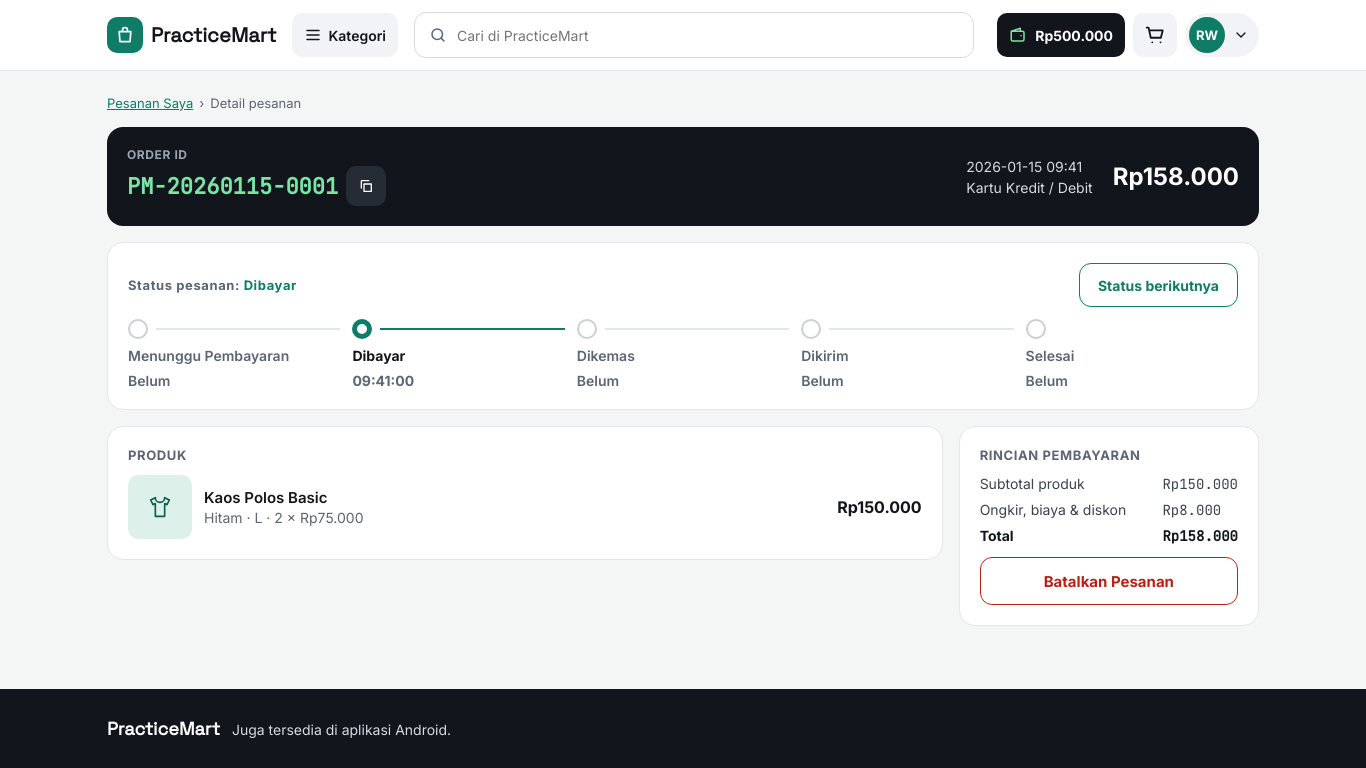
Test case: Detail pesanan (W-ORD-02) › salin Order ID → toast
Click the button with test id "shop_btn_copy_order_id" at (366, 186), box [346, 166, 386, 206]
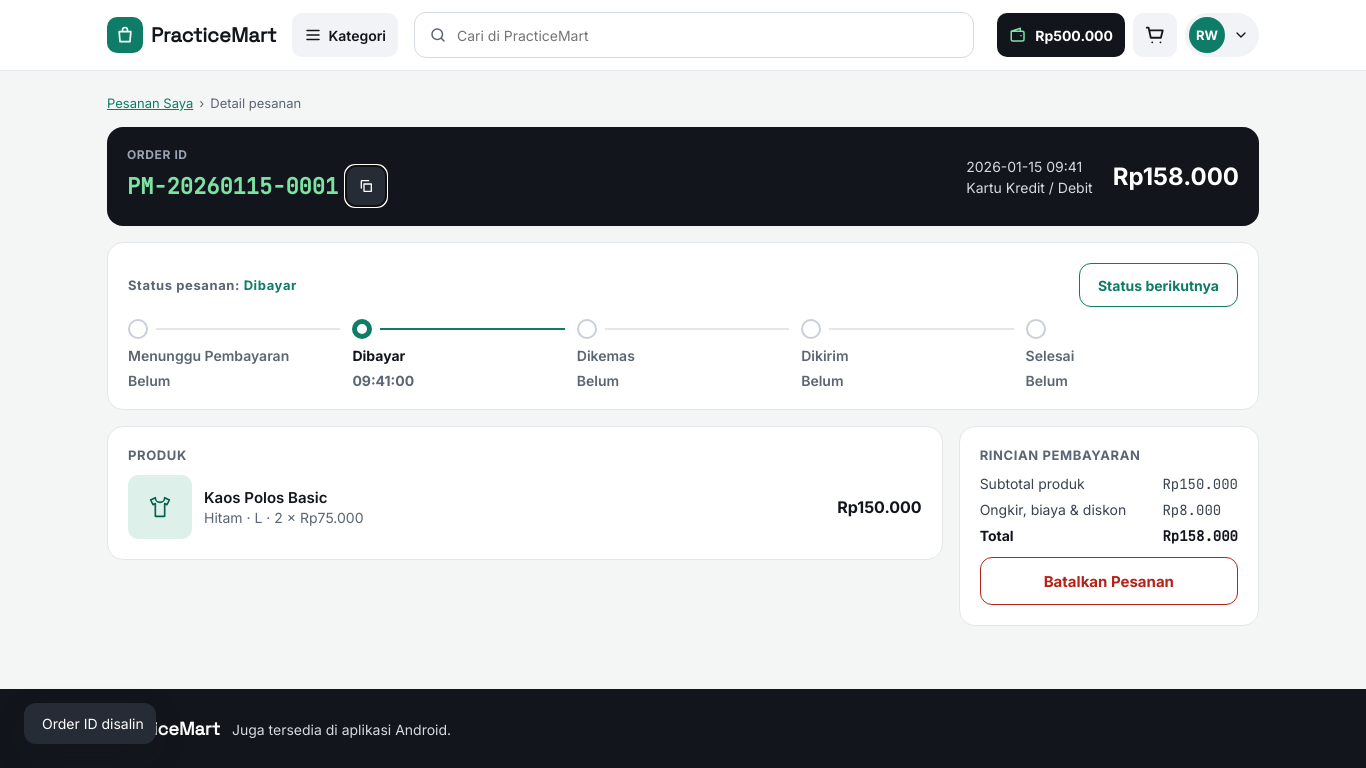
Expected: the text "Order ID disalin" is shown, [42, 715, 144, 732]
